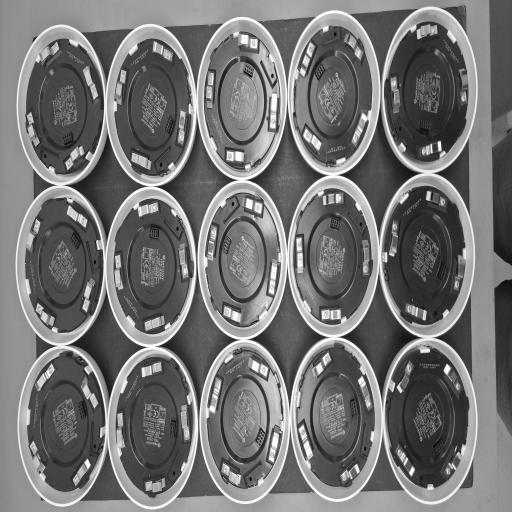yayli: (395, 443, 416, 478), (298, 421, 315, 461), (80, 375, 100, 409), (71, 456, 92, 488), (444, 444, 463, 479), (396, 360, 415, 394), (443, 362, 463, 394), (29, 439, 47, 474), (38, 40, 60, 68), (340, 457, 362, 485), (25, 216, 41, 254), (344, 32, 364, 62), (35, 362, 55, 392), (82, 64, 98, 101), (299, 42, 315, 79), (311, 351, 332, 379), (303, 127, 323, 156), (352, 112, 368, 148), (66, 205, 89, 229), (221, 462, 243, 486), (65, 145, 85, 171), (82, 276, 96, 313), (26, 111, 40, 147), (35, 302, 55, 327), (247, 356, 269, 378), (143, 473, 166, 494), (388, 219, 400, 258), (152, 40, 173, 62), (425, 190, 448, 210), (115, 68, 127, 106), (269, 423, 280, 464), (207, 225, 219, 262), (237, 33, 258, 54), (130, 152, 152, 172), (405, 302, 427, 322), (178, 241, 189, 281), (114, 254, 126, 290), (210, 378, 222, 414), (223, 305, 244, 325), (141, 360, 162, 380), (361, 238, 371, 278), (180, 402, 190, 442), (420, 140, 442, 158), (178, 108, 188, 147), (456, 254, 466, 293), (205, 71, 215, 109), (391, 76, 401, 114), (458, 68, 468, 106), (242, 197, 262, 216), (116, 411, 126, 449), (144, 315, 166, 332), (225, 148, 247, 164), (416, 24, 438, 40), (269, 257, 278, 296), (270, 90, 278, 132), (138, 202, 159, 218), (321, 307, 343, 322), (296, 236, 304, 275), (322, 192, 344, 206)
